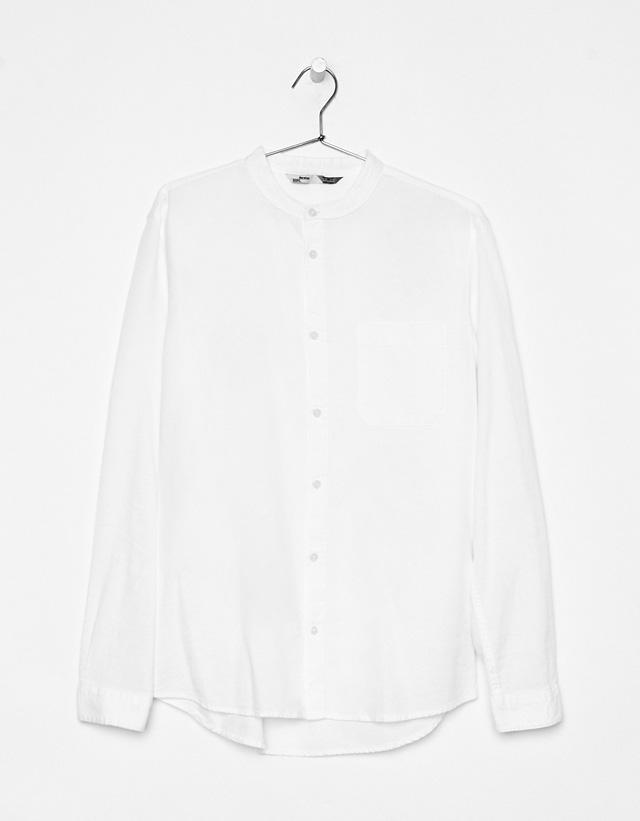teeshirt: (85, 147, 575, 761)
